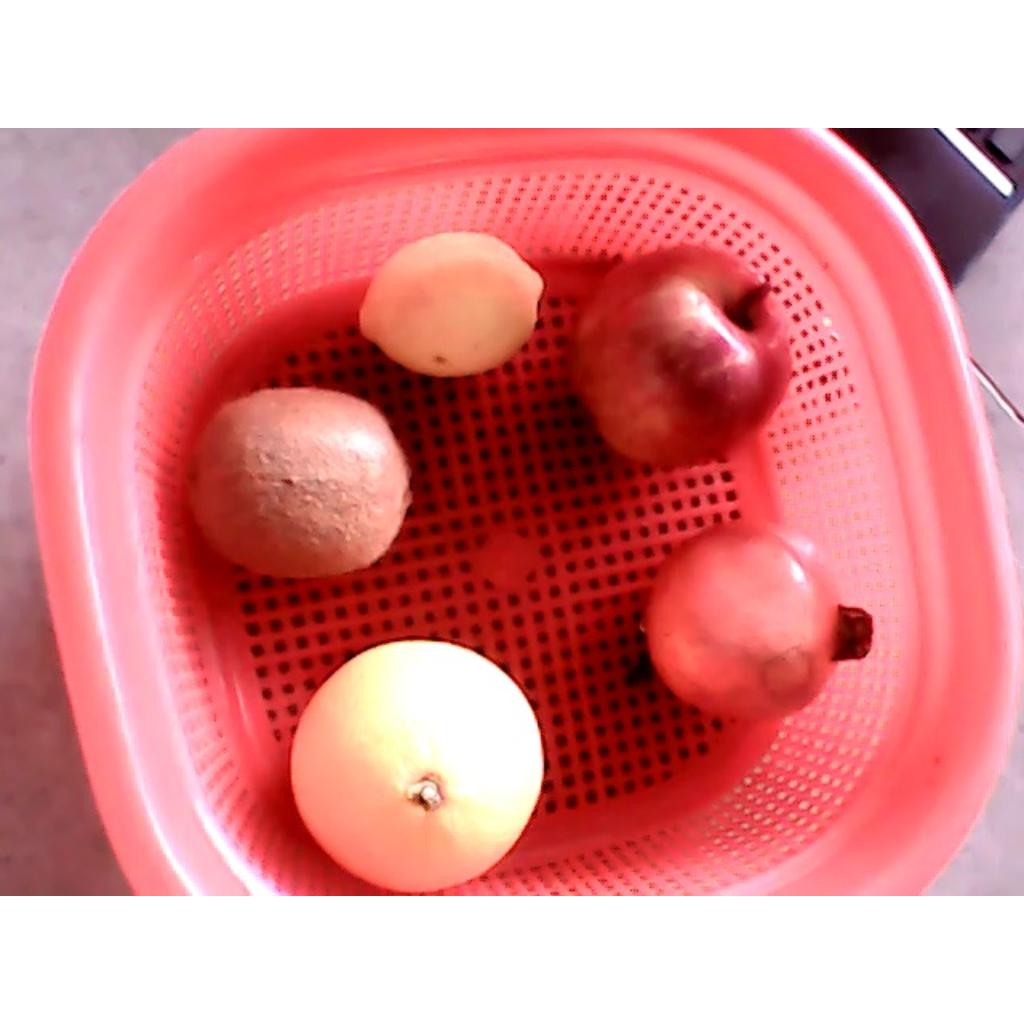apple: (572, 244, 796, 468)
kiwi: (186, 387, 413, 582)
lemon: (358, 232, 548, 379)
orange: (291, 639, 544, 894)
pomegranate: (643, 517, 872, 723)
